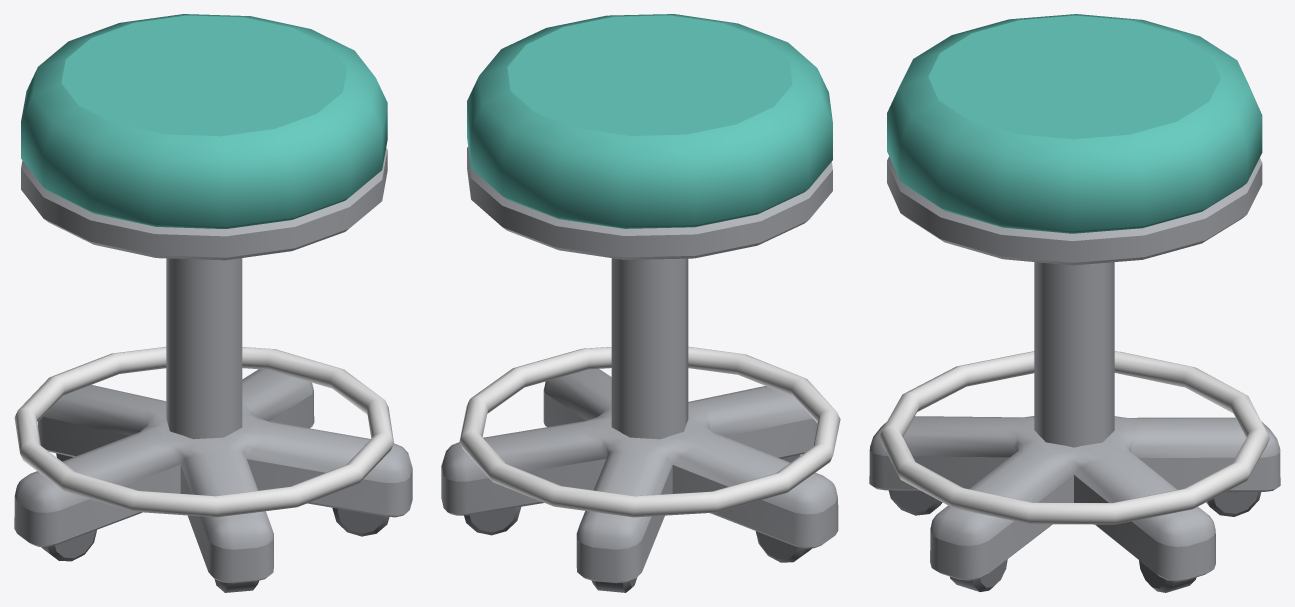
Rendered from Chair.004.fbx.
3 views of the same model, side by side, from view 1: azimuth 30°, elevation 25°; view 2: azimuth 150°, elevation 25°; view 3: azimuth 270°, elevation 25° (orthographic).
Visible parts, largest first — view 1: Chair.004; view 2: Chair.004; view 3: Chair.004.
Boxes of the visible parts, box(x1,y1,x2,y2) form: Chair.004: box(14, 14, 412, 592); Chair.004: box(441, 14, 840, 592); Chair.004: box(869, 14, 1280, 592).
Size of the model in its own units: 0.4615 by 0.5744 by 0.4711.
